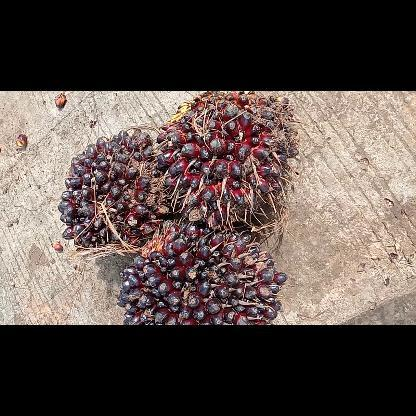TBS mentah: (154, 91, 300, 230), (114, 220, 288, 324), (57, 126, 172, 256)
